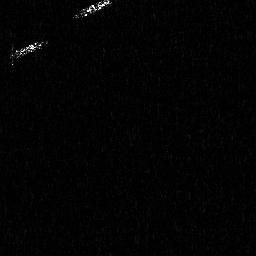ship: (8, 37, 49, 67), (69, 1, 112, 18)
